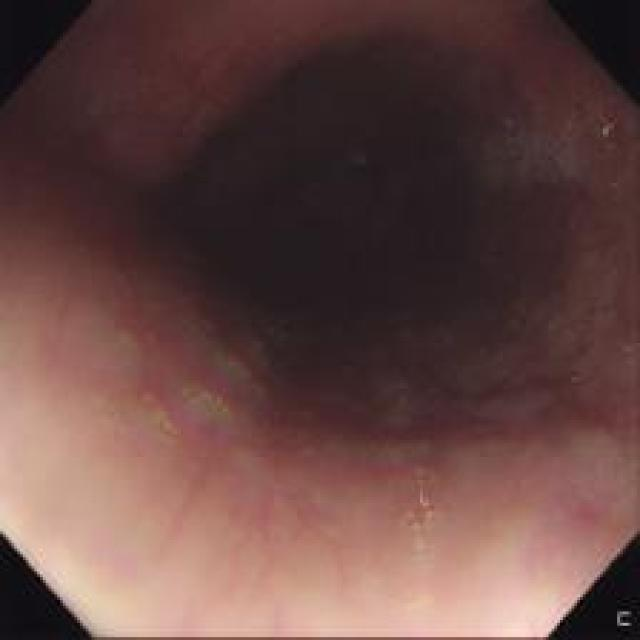bubbles: (475, 110, 580, 200), (582, 158, 628, 220), (395, 502, 435, 570), (410, 460, 440, 522)
color misalignment: (580, 102, 628, 155)
